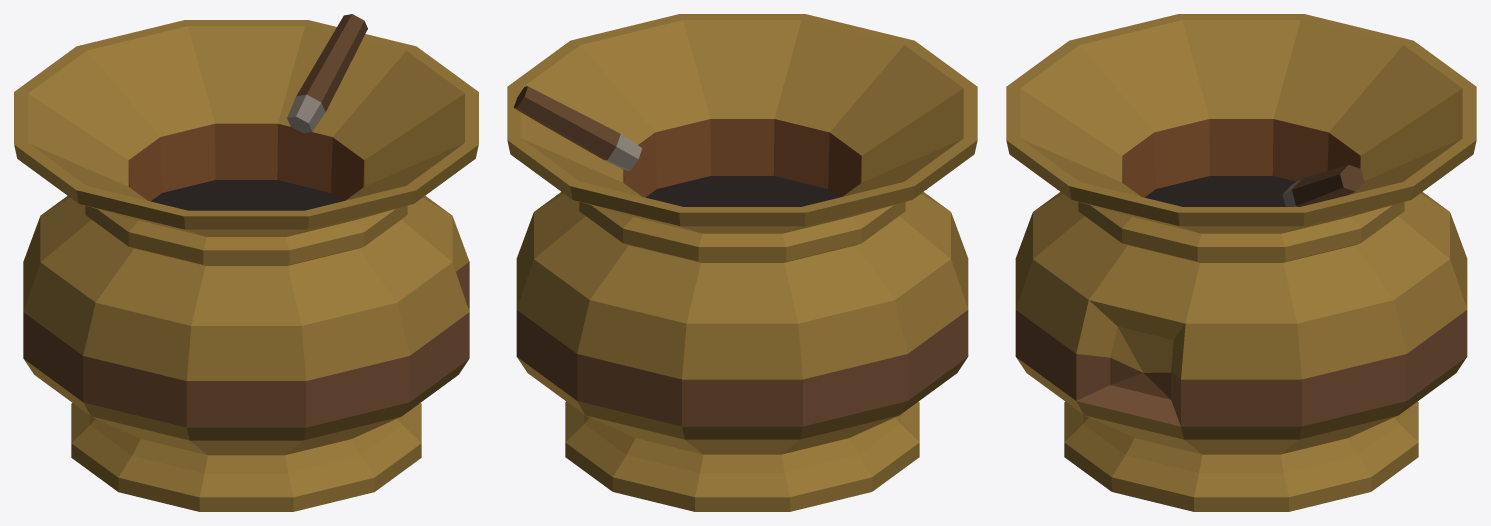
File: spittoon-ae840a.glb
The picture shows the model from 3 angles, left to right: view 1: azimuth 30°, elevation 25°; view 2: azimuth 150°, elevation 25°; view 3: azimuth 270°, elevation 25°; orthographic projection.
Visible parts, largest first — view 1: spittoon-body, cigar-mesh; view 2: spittoon-body, cigar-mesh; view 3: spittoon-body, cigar-mesh.
Part boxes in pixels (x1=…): spittoon-body: x1=14, y1=20, x2=478, y2=511; cigar-mesh: x1=287, y1=14, x2=367, y2=133; spittoon-body: x1=507, y1=14, x2=977, y2=511; cigar-mesh: x1=513, y1=86, x2=642, y2=170; spittoon-body: x1=1006, y1=14, x2=1476, y2=511; cigar-mesh: x1=1282, y1=164, x2=1364, y2=206.
Size of the model in its own units: 0.2898 by 0.2384 by 0.2898.
